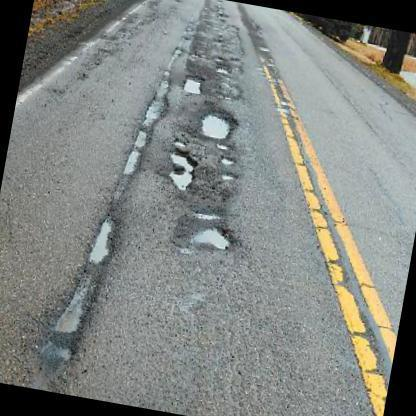pothole: (34, 214, 123, 366), (122, 71, 174, 177), (190, 208, 240, 254), (168, 143, 198, 195), (202, 108, 236, 142), (182, 70, 206, 100)
